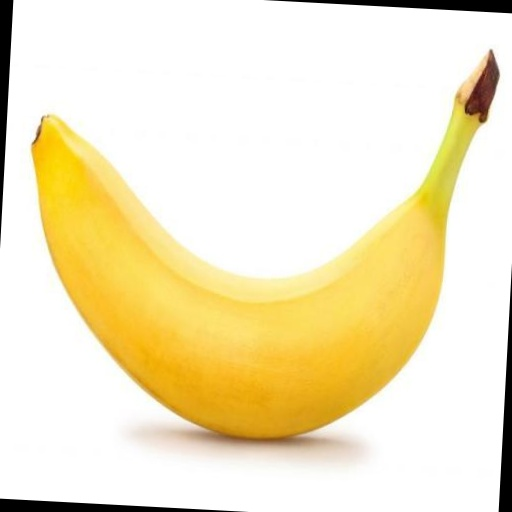fruit: (463, 54, 512, 176)
